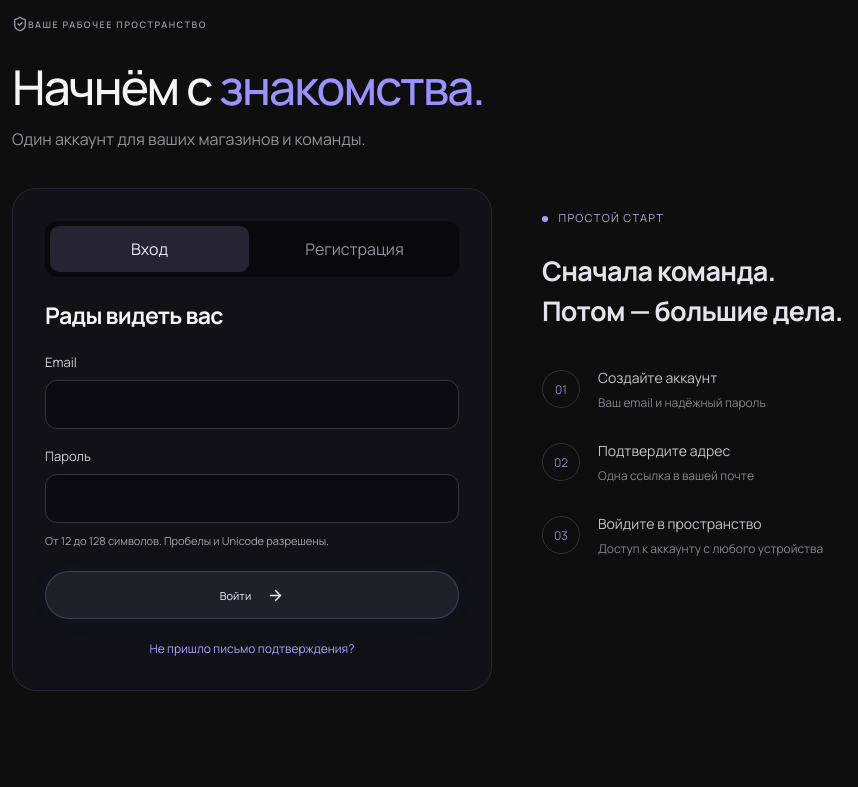
Test: accounts › registers with CSRF and shows email instructions without storing the password
Click the button "Регистрация" at (354, 249), box [255,226,454,272]
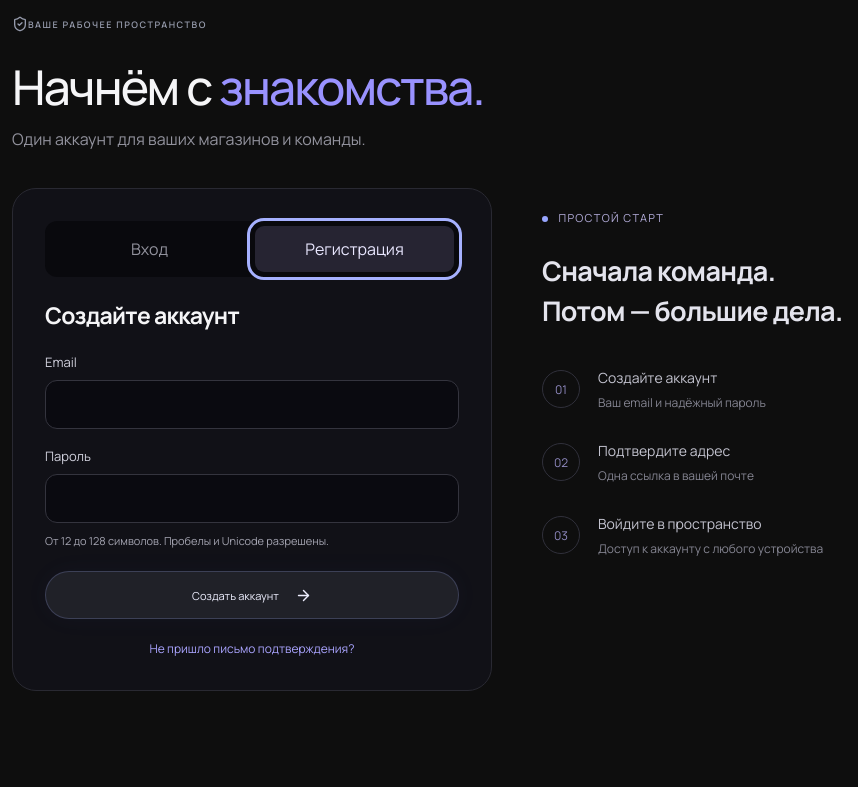
Type "owner@example.com" into the field labelled "Email" at (252, 404), box [45,380,459,429]
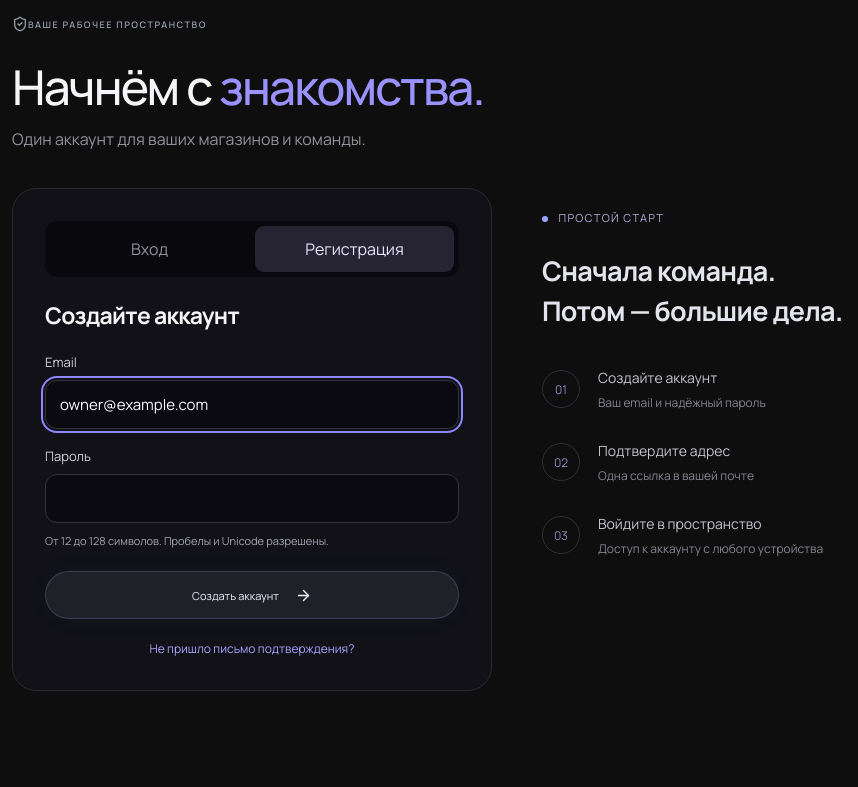
Type "long-password-test" into the password field labelled "Пароль" at (252, 498), box [45,474,459,523]
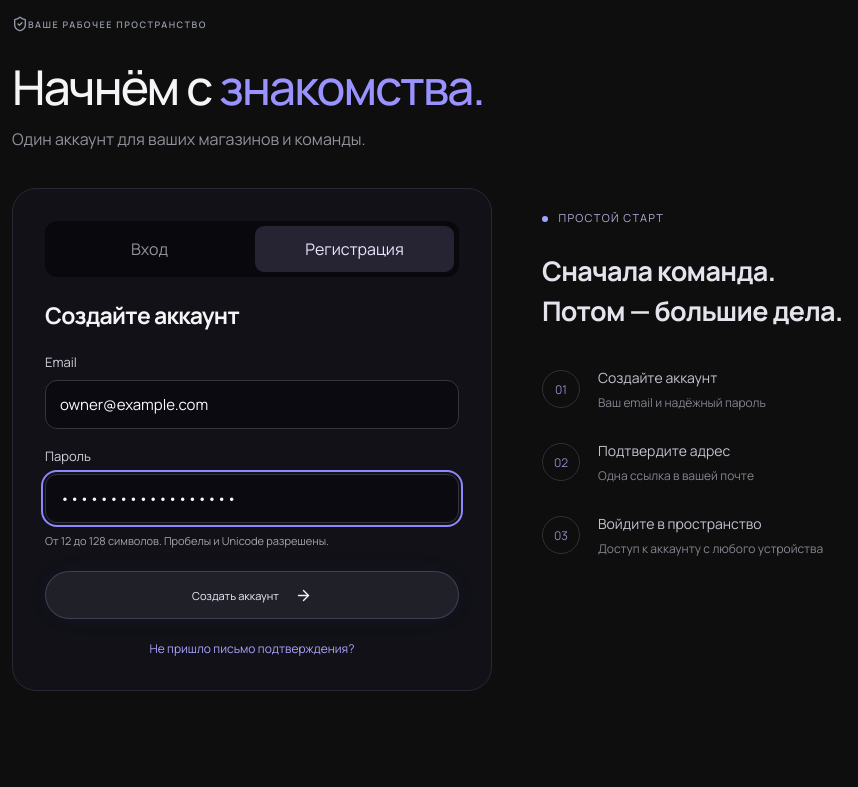
Click the button "Создать аккаунт" at (252, 595), box [45,571,459,619]
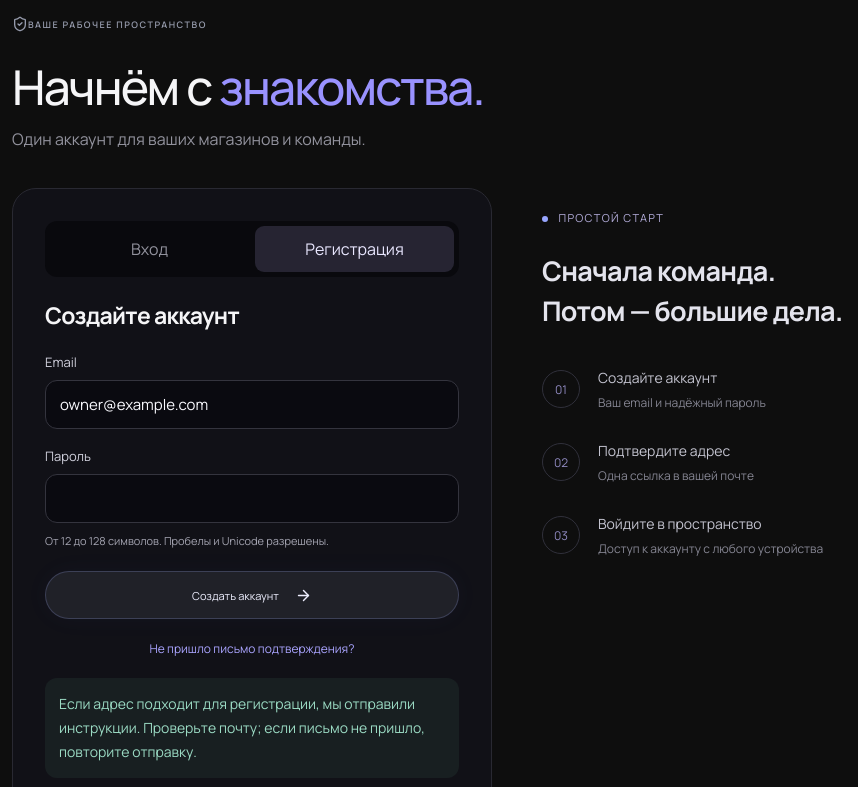
Check: the message shows "Проверьте почту", box [59,694,425,761]
Check: the password field labelled "Пароль" is empty, box [45,474,459,523]
